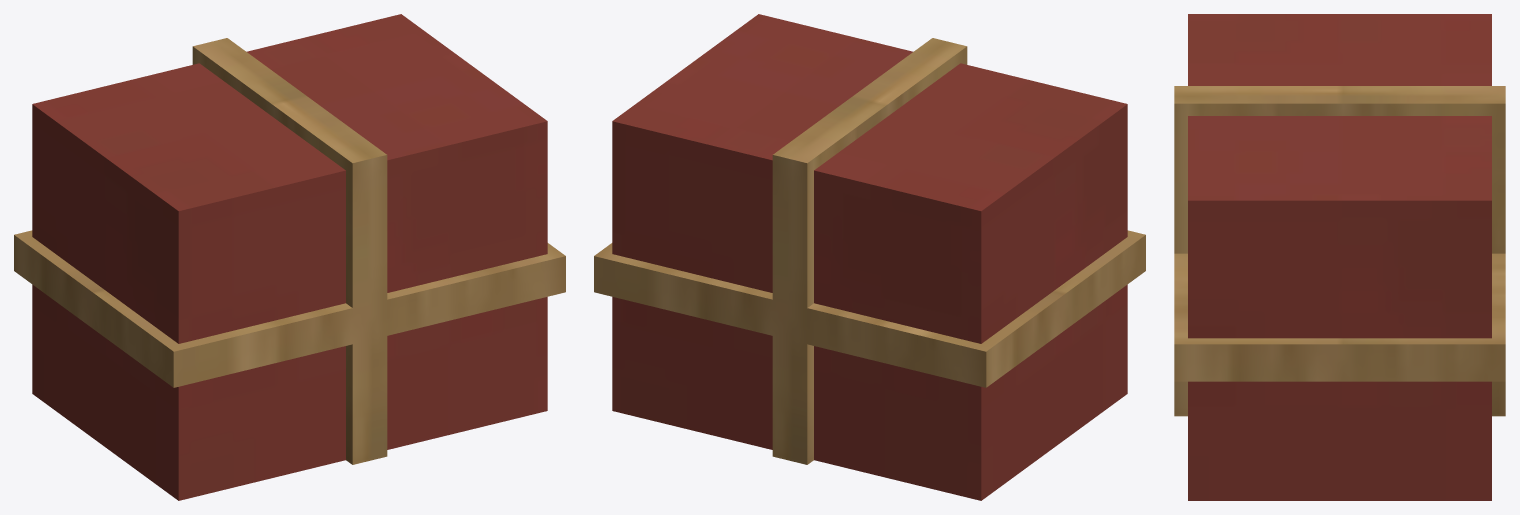
File: cargo.t2.glb
3 views of the same model, side by side, from view 1: azimuth 30°, elevation 25°; view 2: azimuth 150°, elevation 25°; view 3: azimuth 270°, elevation 25° (orthographic). The views are drawn at different scales.
Visible parts, largest first — view 1: courier.cargo.t2; view 2: courier.cargo.t2; view 3: courier.cargo.t2.
Part boxes in pixels (bbox=[...]): courier.cargo.t2: bbox=[14, 14, 565, 500]; courier.cargo.t2: bbox=[594, 14, 1145, 500]; courier.cargo.t2: bbox=[1174, 14, 1505, 500].
Bounding box in the file's own units: 0.34 × 0.25 × 0.24.
Materials: 2 (2 with a texture image).
